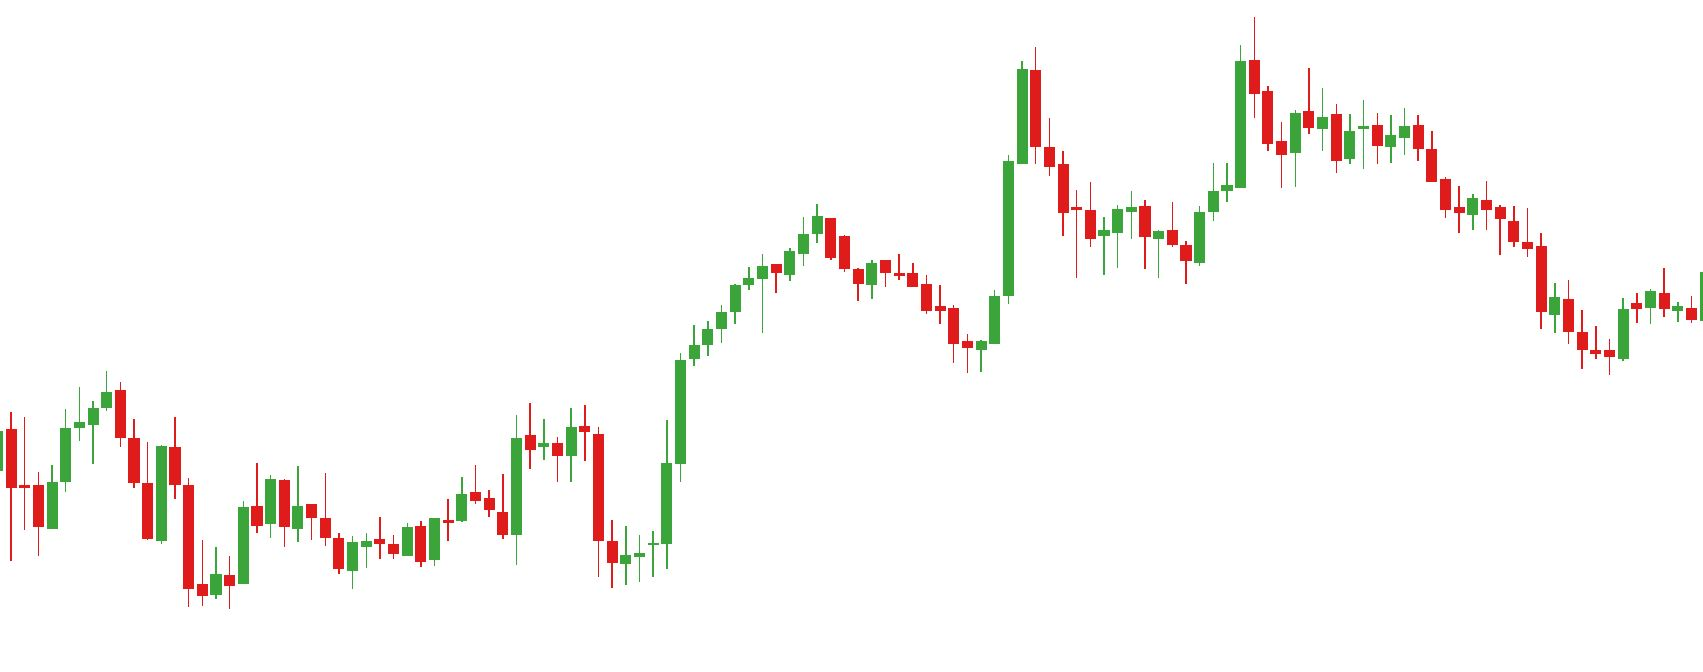buy: (508, 454, 630, 593)
sell: (1027, 7, 1264, 164)
